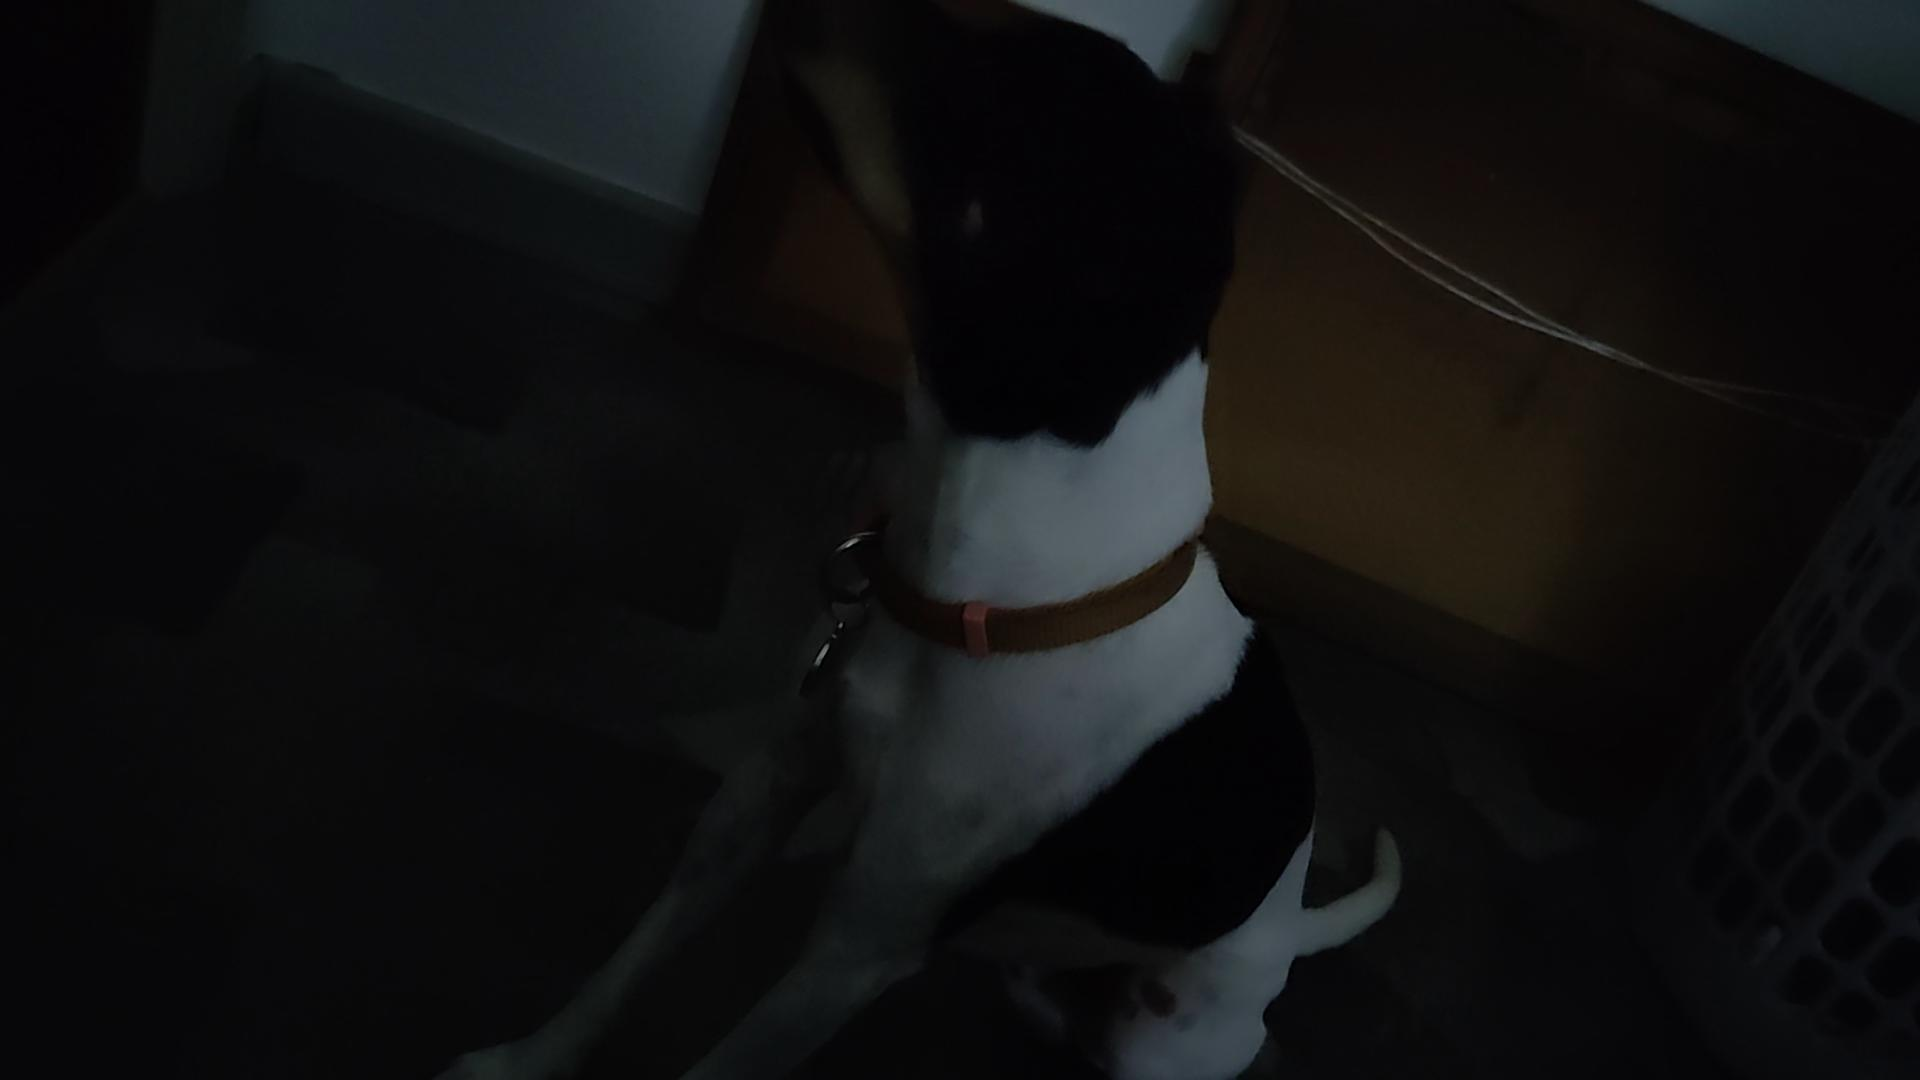Dog: (433, 0, 1408, 1079)
